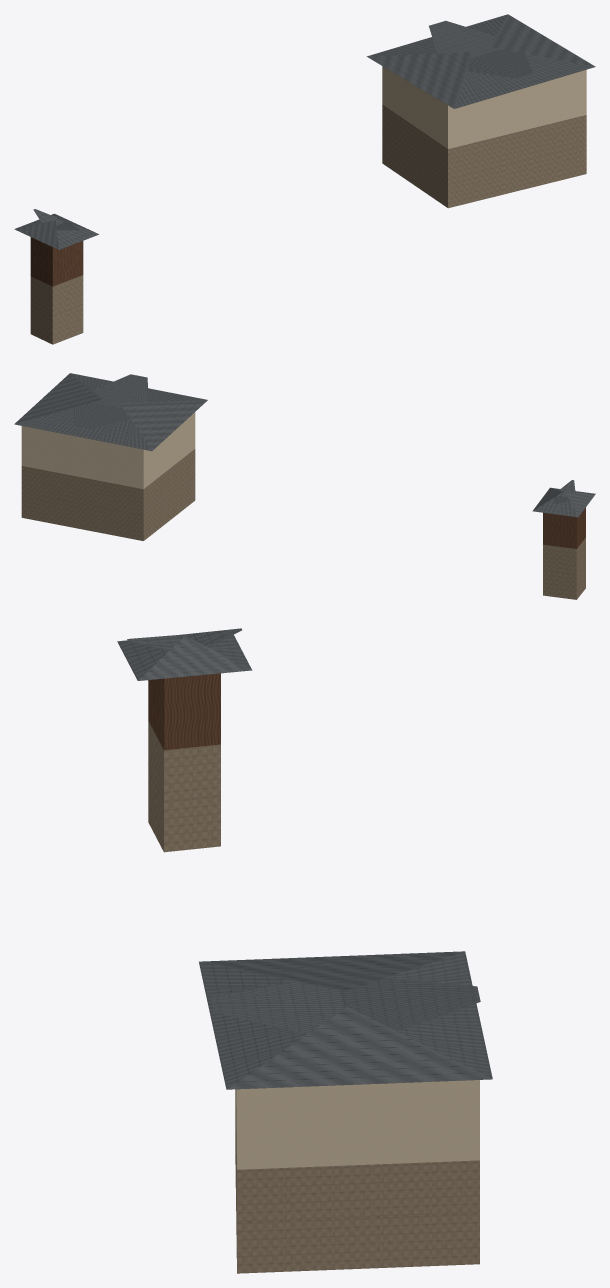
Rendered from bld_c22_44_382.gltf.
3 views of the same model, one above another, from view 1: azimuth 30°, elevation 25°; view 2: azimuth 150°, elevation 25°; view 3: azimuth 270°, elevation 25° (orthographic). The views are drawn at different scales.
Visible parts, largest first — view 1: bld_c22_44_382; view 2: bld_c22_44_382; view 3: bld_c22_44_382.
Part boxes in pixels (box(x1,y1,x2,y2)): bld_c22_44_382: box(14, 14, 595, 344); bld_c22_44_382: box(14, 373, 595, 599); bld_c22_44_382: box(117, 628, 492, 1273).
Size of the model in its own units: 50.14 by 11.2 by 16.01.
4 materials, 4 textured.
